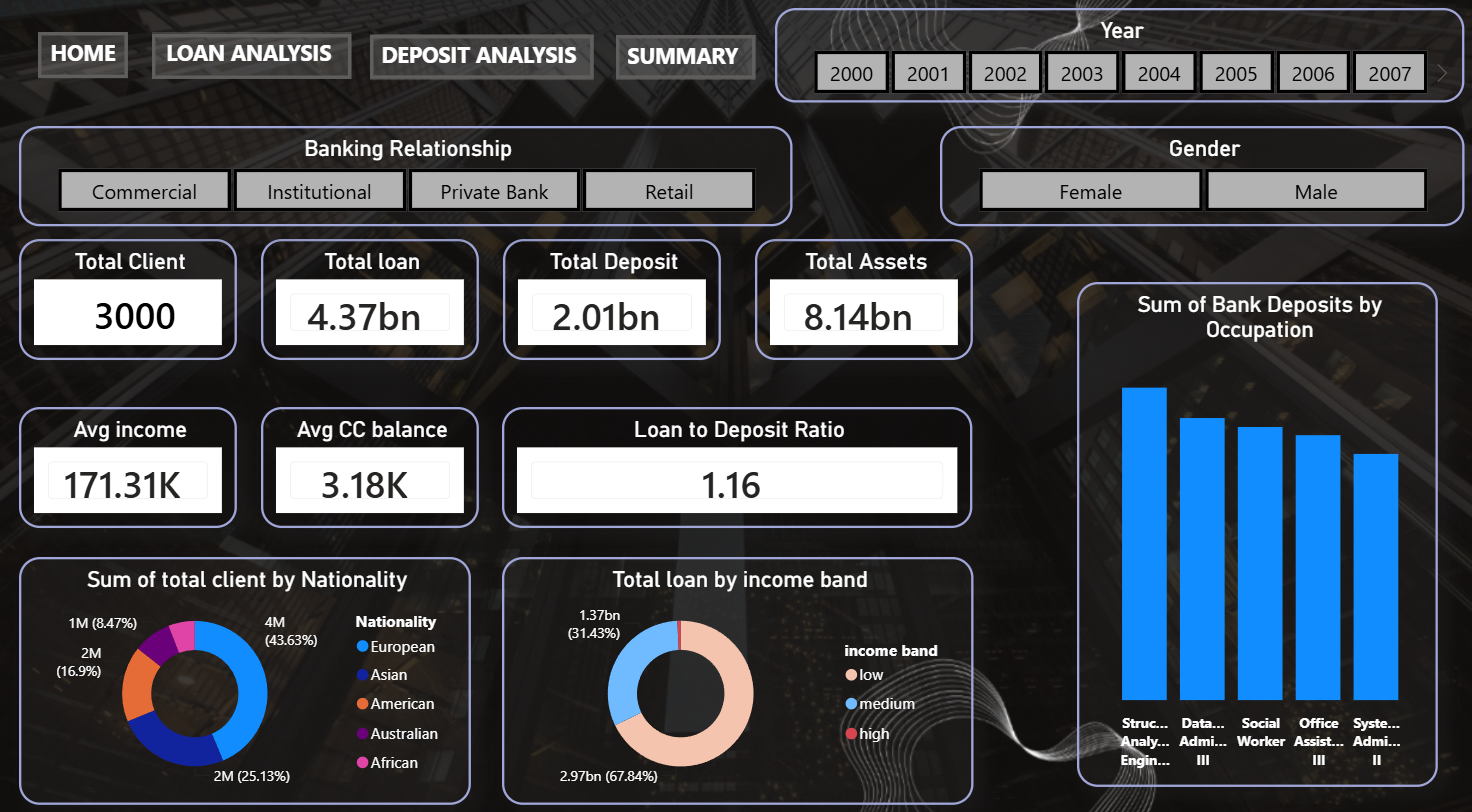

What the dashboard file says about the page in this screenshot:
{"tool":"powerbi","page":{"name":"Summary","canvas":[1280,720],"ordinal":3},"visuals":[{"type":"cardVisual","title":"Total Client ","fields":{"Data":["Banking.total client 2"]},"box":[17,214,189,105],"z":0},{"type":"cardVisual","title":"Total loan","fields":{"Data":["Banking.total loan"]},"box":[227,214,189,105],"z":1000},{"type":"cardVisual","title":"Total Deposit ","fields":{"Data":["Sum(Banking.Bank Deposits)"]},"box":[437,214,189,105],"z":2000},{"type":"cardVisual","title":"Total Assets  ","fields":{"Data":["Sum(Banking.total assets)"]},"box":[656,214,189,105],"z":3000},{"type":"cardVisual","title":"Avg income ","fields":{"Data":["Avg(Banking.Estimated Income)"]},"box":[17,360,189,105],"z":4000},{"type":"cardVisual","title":"Avg CC balance","fields":{"Data":["Avg(Banking.Credit Card Balance)"]},"box":[227,360,189,105],"z":5000},{"type":"cardVisual","title":"Loan to Deposit Ratio","fields":{"Data":["Banking.rarion of loan and deposit"]},"box":[436,360,408,105],"z":6000},{"type":"donutChart","fields":{"Category":["Banking.Nationality"],"Y":["Sum(Banking.total client)"]},"box":[17,490,392,215],"z":7000},{"type":"clusteredColumnChart","fields":{"Category":["Banking.Occupation"],"Y":["Sum(Banking.Bank Deposits)"]},"box":[934.7,251.9,313.2,437.7],"z":8000},{"type":"donutChart","title":"Total loan by income band","fields":{"Category":["Banking.income band"],"Y":["Banking.total loan"]},"box":[436,490,409,215],"z":9000},{"type":"slicer","title":"Gender ","fields":{"Values":["Banking.GenderId"]},"box":[816,116,455,87],"z":10000},{"type":"slicer","title":"Banking Relationship","fields":{"Values":["banking-realtionships (1).Banking Relationship"]},"box":[17,116,671,87],"z":11000},{"type":"slicer","title":"Year ","fields":{"Values":["Banking.Joined Bank.Variation.Date Hierarchy.Year"]},"box":[673,14,598,82],"z":12000},{"type":"textbox","box":[34,35,78,40],"z":13000},{"type":"textbox","box":[133,35,173,40],"z":14000},{"type":"textbox","box":[322,36,194,40],"z":15000},{"type":"textbox","box":[535,37,121,39],"z":16000},{"type":"actionButton","box":[34,35,78,40],"z":17000},{"type":"actionButton","box":[133,36,173,39],"z":18000},{"type":"actionButton","box":[322,37,194,38],"z":19000},{"type":"actionButton","box":[535,37,121,38],"z":20000}]}

Visuals, with their boxes in screenshot pixels (x1, y1, x2, y2), scaled from the page's 1280x720 canvas onto the 1472x812 screenshot:
"Total Client " cardVisual: locate(20, 241, 237, 360)
"Total loan" cardVisual: locate(261, 241, 478, 360)
"Total Deposit " cardVisual: locate(503, 241, 720, 360)
"Total Assets  " cardVisual: locate(754, 241, 972, 360)
"Avg income " cardVisual: locate(20, 406, 237, 524)
"Avg CC balance" cardVisual: locate(261, 406, 478, 524)
"Loan to Deposit Ratio" cardVisual: locate(501, 406, 971, 524)
donutChart - Banking.Nationality x Sum(Banking.total client): locate(20, 553, 470, 795)
clusteredColumnChart - Banking.Occupation x Sum(Banking.Bank Deposits): locate(1075, 284, 1435, 778)
"Total loan by income band" donutChart: locate(501, 553, 972, 795)
"Gender " slicer: locate(938, 131, 1462, 229)
"Banking Relationship" slicer: locate(20, 131, 791, 229)
"Year " slicer: locate(774, 16, 1462, 108)
textbox: locate(39, 39, 129, 85)
textbox: locate(153, 39, 352, 85)
textbox: locate(370, 41, 593, 86)
textbox: locate(615, 42, 754, 86)
actionButton: locate(39, 39, 129, 85)
actionButton: locate(153, 41, 352, 85)
actionButton: locate(370, 42, 593, 85)
actionButton: locate(615, 42, 754, 85)
